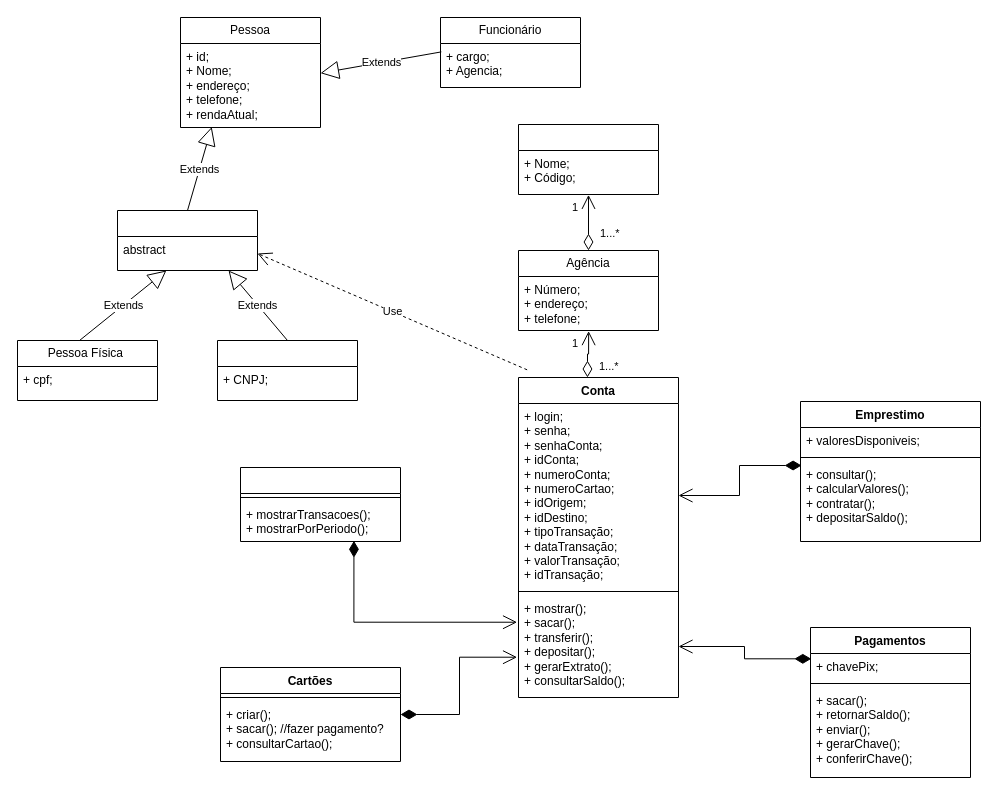
Image size: 998x798. Some labels were removed from this diagram. Each missing label, with the box of its shape:
Banco: (518, 124, 658, 194)
Cliente: (116, 210, 258, 270)
Extrato: (240, 466, 400, 542)
Pessoa Jurídica: (216, 340, 358, 400)
